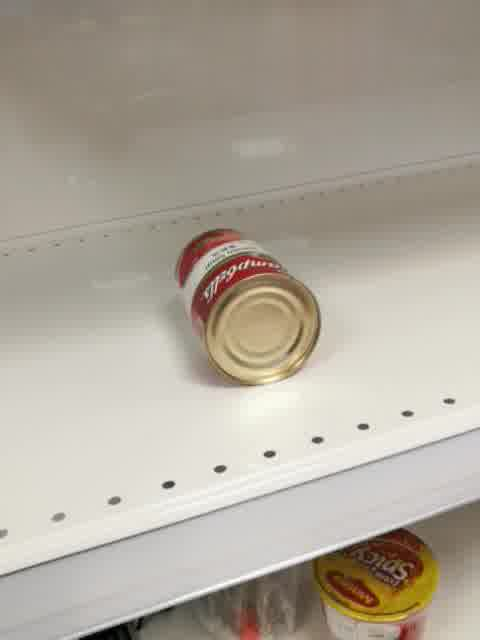tomatosoup: (172, 228, 325, 388)
